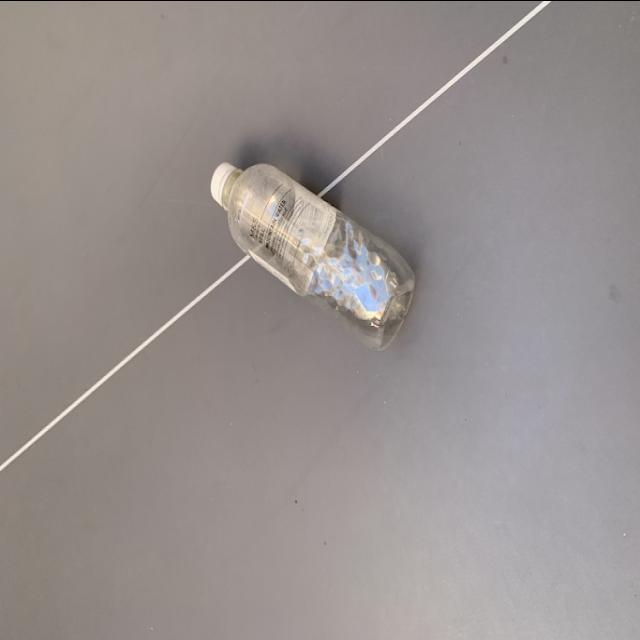litter: (208, 158, 420, 352)
